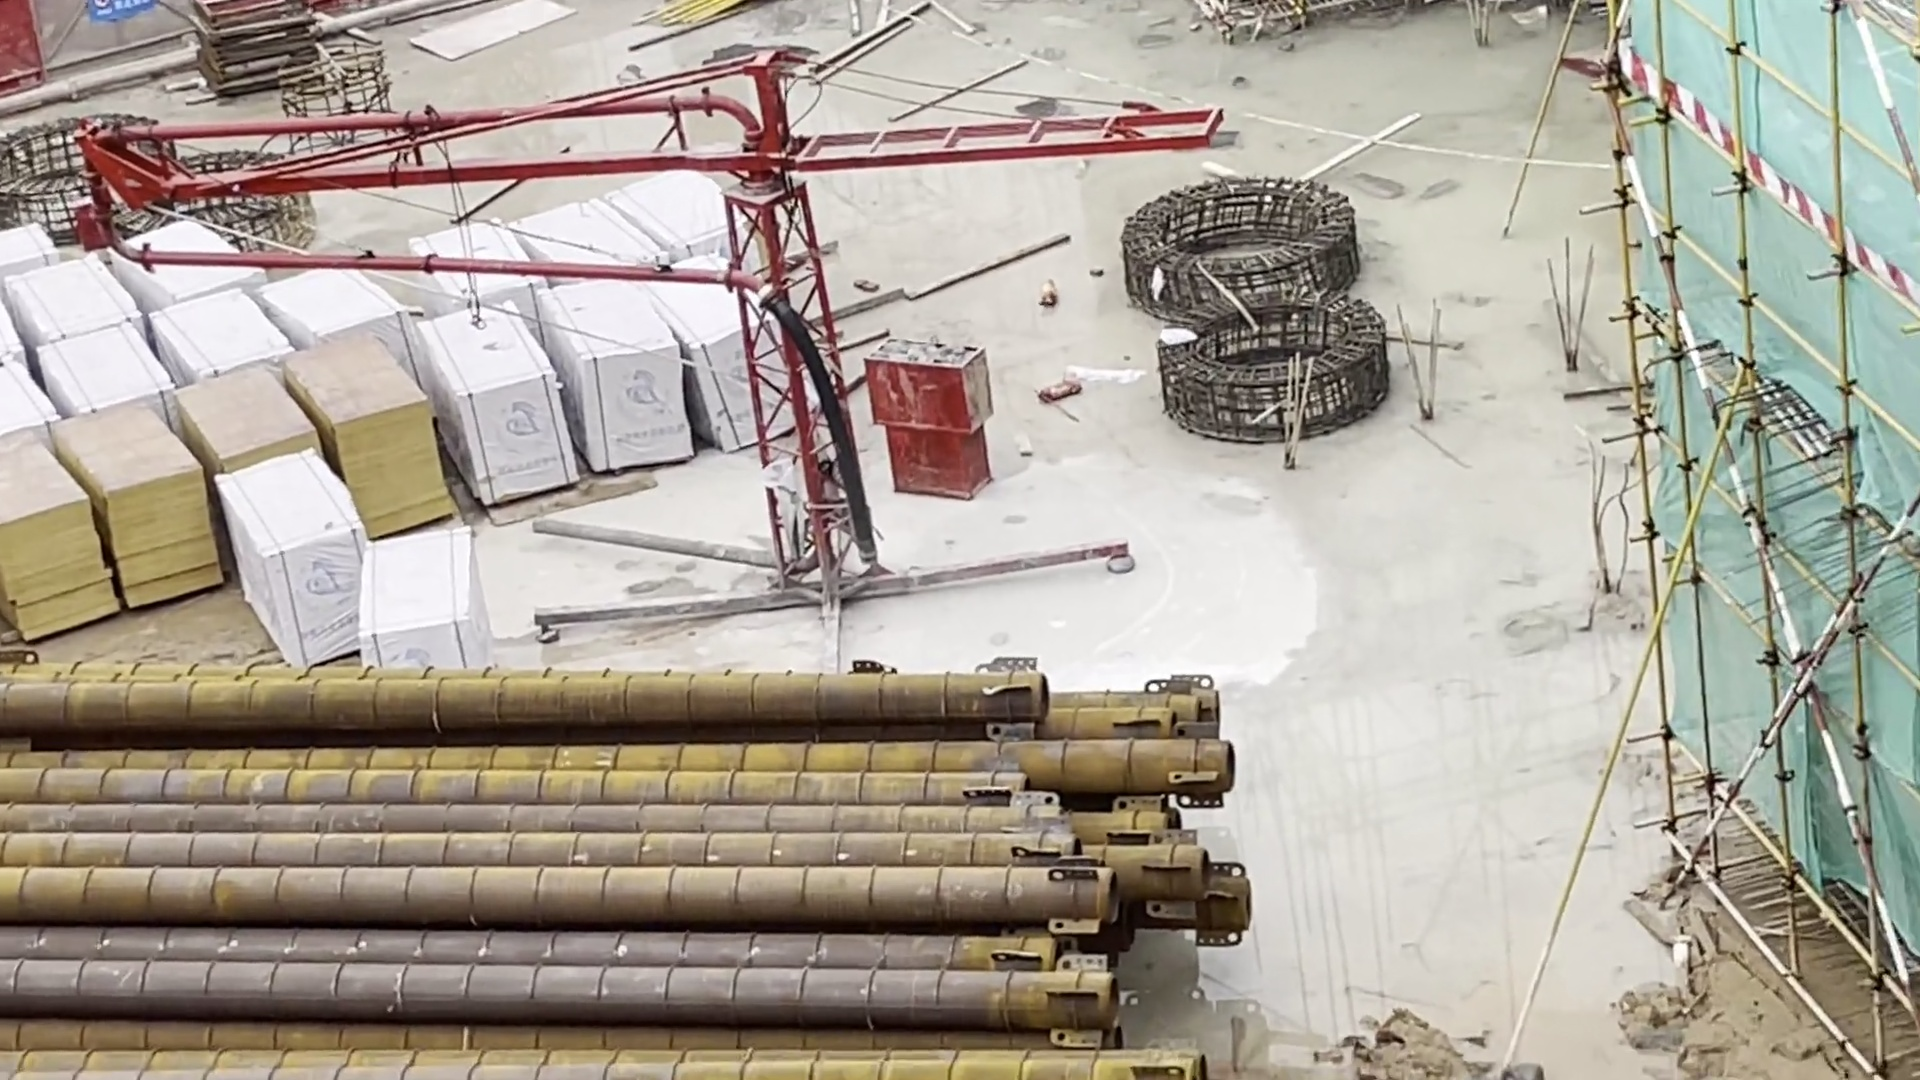board: (1, 326, 471, 645)
slogan: (80, 1, 179, 34)
